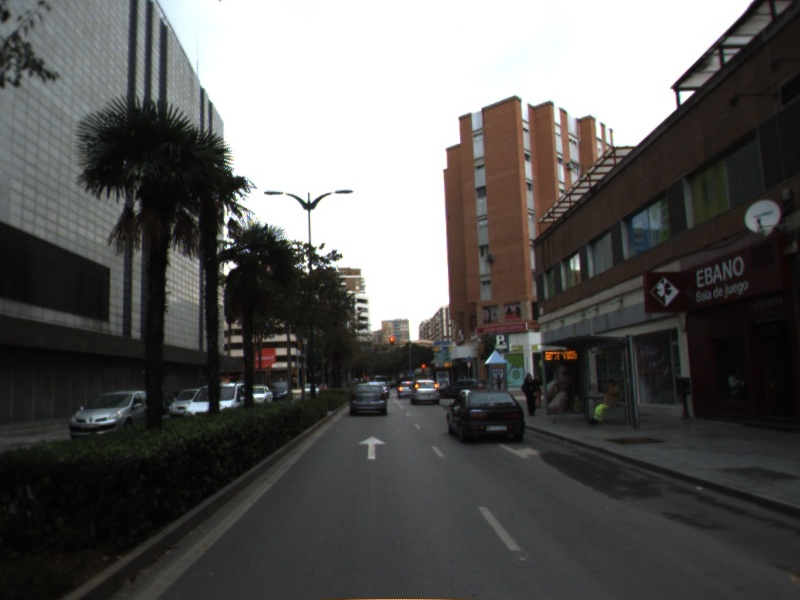STRAIGHT: (357, 434, 388, 461)
